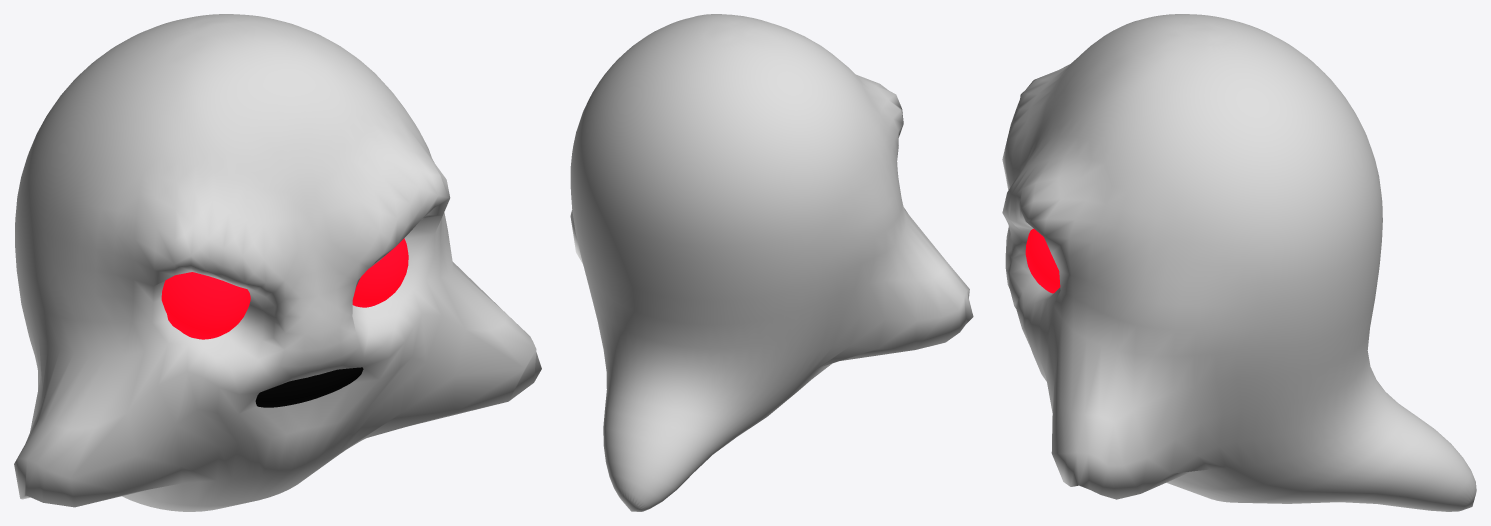
Rendered from ghost 2.fbx.
3 views of the same model, side by side, from view 1: azimuth 30°, elevation 25°; view 2: azimuth 150°, elevation 25°; view 3: azimuth 270°, elevation 25° (orthographic). The views are drawn at different scales.
Visible parts, largest first — view 1: Sphere, Sphere.002, Sphere.003, Sphere.001; view 2: Sphere; view 3: Sphere, Sphere.001.
Part boxes in pixels (x1,y1,x2,y2): Sphere: (14, 14, 541, 511); Sphere.002: (161, 272, 250, 339); Sphere.003: (255, 367, 363, 407); Sphere.001: (352, 238, 408, 307); Sphere: (570, 14, 973, 511); Sphere: (1002, 14, 1476, 511); Sphere.001: (1025, 228, 1060, 293).
Bounding box in the file's own units: 276 × 266 × 234.
